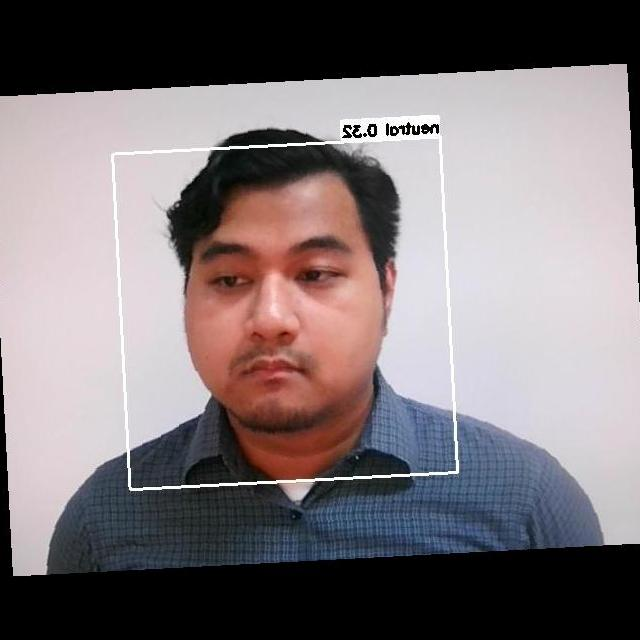Natural: (186, 228, 387, 422)
